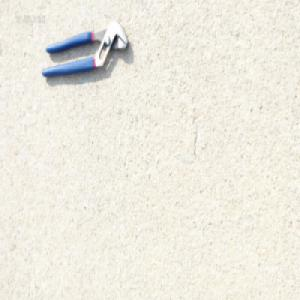Pliers: (40, 21, 128, 79)
